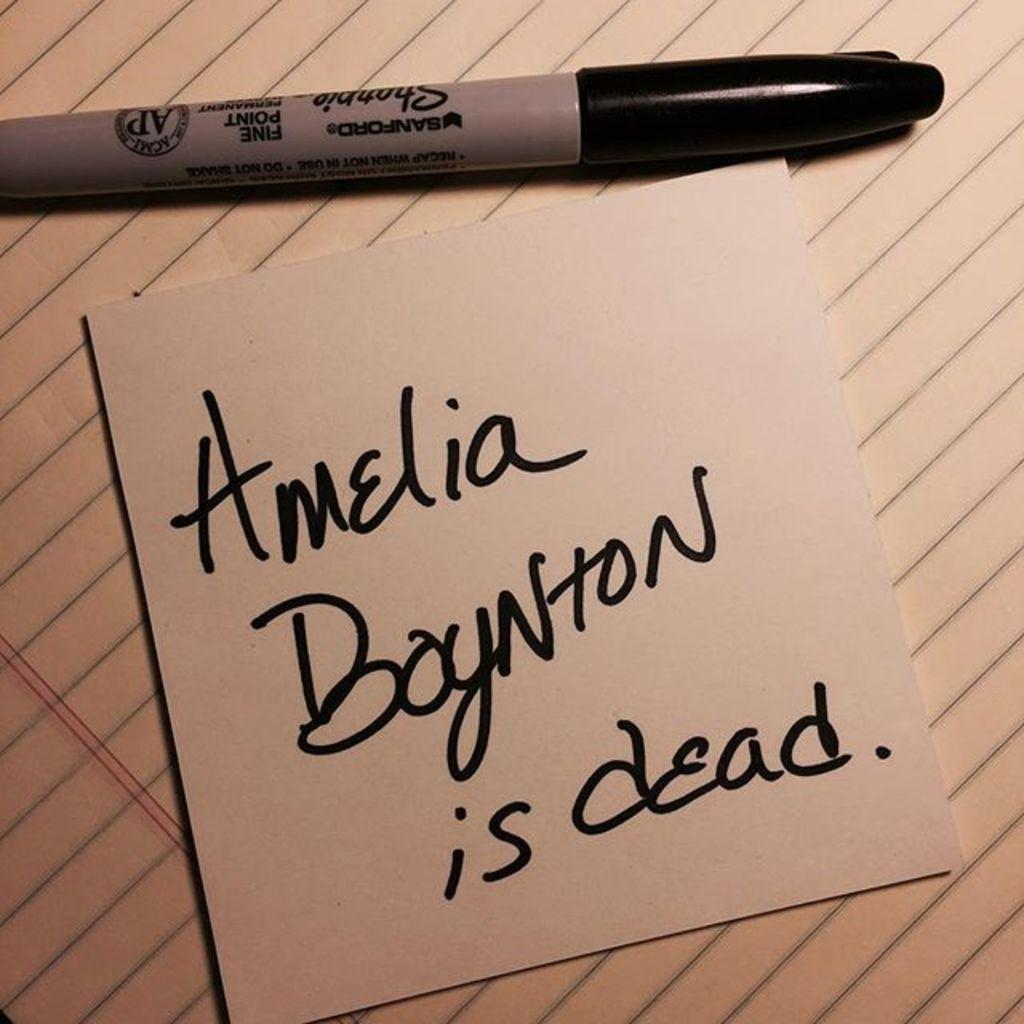pen: (0, 54, 949, 202)
